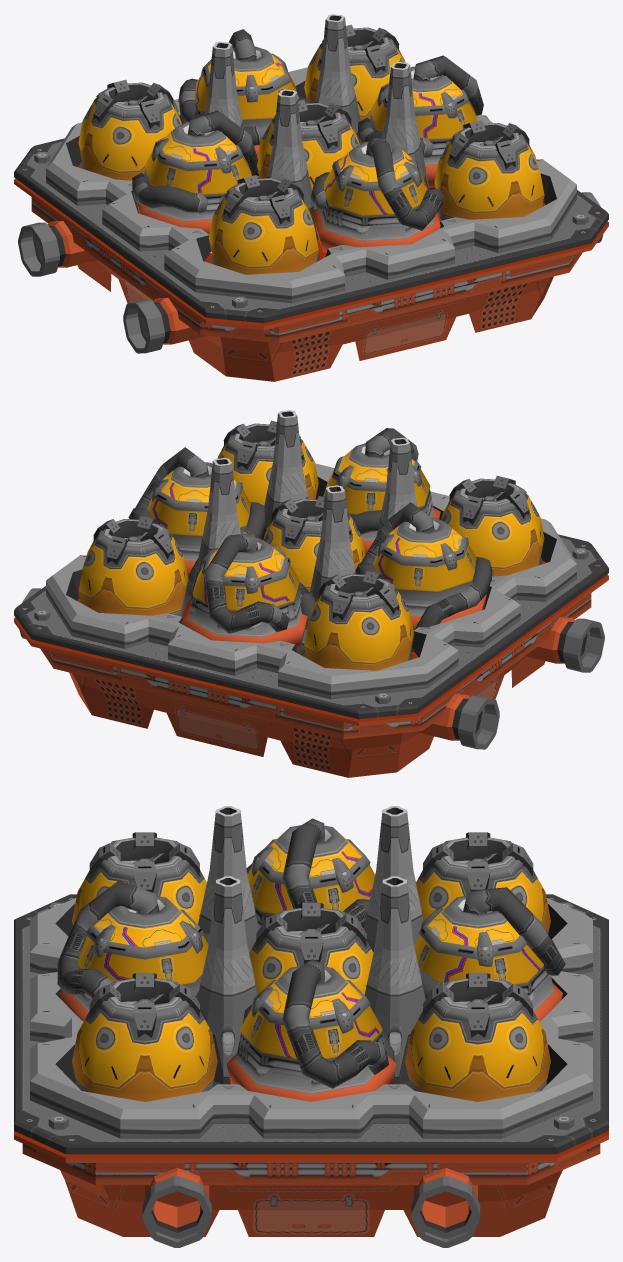
File: hydro-plant.glb
3 views of the same model, one above another, from view 1: azimuth 30°, elevation 25°; view 2: azimuth 150°, elevation 25°; view 3: azimuth 270°, elevation 25° (orthographic). The views are drawn at different scales.
Visible parts, largest first — view 1: Sphere.003; view 2: Sphere.003; view 3: Sphere.003.
Boxes of the visible parts, left/top/right/bottom form: Sphere.003: left=14, top=14, right=608, bottom=381; Sphere.003: left=14, top=410, right=608, bottom=777; Sphere.003: left=14, top=806, right=608, bottom=1247.
Bounding box in the file's own units: 50 × 23.95 × 44.31.
1 material, 1 textured.
